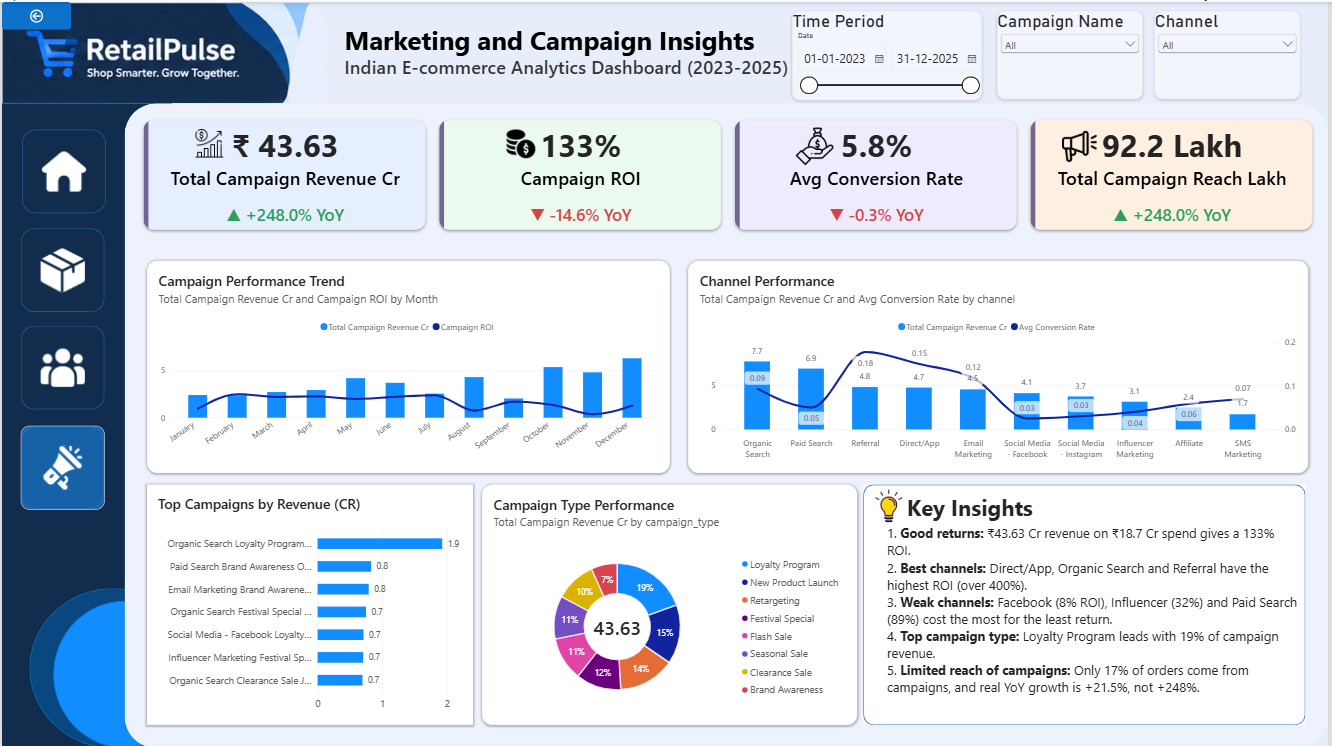

The dashboard page shown, as its layout file describes it:
{"tool":"powerbi","page":{"name":"Marketing Insight Dashboard","canvas":[1920,1080],"ordinal":3},"visuals":[{"type":"shape","box":[1246.4,698.5,640.1,348.3],"z":0,"group":"g2"},{"type":"shape","box":[0,146.6,246.1,933.8],"z":1000},{"type":"image","box":[1244.5,706,77.2,47.1],"z":1000,"group":"g2"},{"type":"image","box":[0,1.8,465.1,144.8],"z":2000},{"type":"textbox","box":[1310.4,709.8,299.4,47.1],"z":2000,"group":"g2"},{"type":"textbox","box":[1280.3,756.9,598.7,271.1],"z":3000,"group":"g2"},{"type":"shape","box":[39.8,848.7,242.5,231.6],"z":3000},{"type":"shape","box":[74.2,866.8,208.1,213.5],"z":4000},{"type":"shape","box":[176.6,146.6,1742.7,933.8],"z":5000},{"type":"textbox","box":[496.7,29.2,993.4,116.9],"z":6000},{"type":"textbox","box":[496.7,75.1,928.4,244.3],"z":7000},{"type":"cardVisual","fields":{"Data":["public campaigns.Total Campaign Revenue Cr","public campaigns.Campaign ROI","public campaigns.Avg Conversion Rate","public campaigns.Total Campaign Reach Lakh"]},"box":[199.1,164.7,1706.5,171.9],"z":8000,"group":"g1"},{"type":"lineStackedColumnComboChart","title":"Campaign Performance Trend","fields":{"Category":["public campaigns.campaign_end_date.Variation.Date Hierarchy.Month"],"Y":["public campaigns.Total Campaign Revenue Cr"],"Y2":["public campaigns.Campaign ROI"]},"box":[209.2,374.4,757.1,307.5],"z":14000},{"type":"lineStackedColumnComboChart","title":"Channel Performance","fields":{"Category":["public campaigns.channel"],"Y":["public campaigns.Total Campaign Revenue Cr"],"Y2":["public campaigns.Avg Conversion Rate"]},"box":[993.5,374.4,897.3,307.5],"z":16000},{"type":"barChart","title":"Top Campaigns by Revenue (CR)","fields":{"Category":["public campaigns.campaign_name"],"Y":["public campaigns.Total Campaign Revenue Cr"]},"box":[209.2,698,472.4,347.8],"z":17000},{"type":"donutChart","title":"Campaign Type Performance","fields":{"Category":["public campaigns.campaign_type"],"Y":["public campaigns.Total Campaign Revenue Cr"]},"box":[695.6,698,542.9,347.8],"z":18000},{"type":"slicer","title":"Time Period","fields":{"Values":["Date.Date"]},"box":[1143.3,13.6,275.2,129.8],"z":20000},{"type":"actionButton","box":[0,0,100,40],"z":21000},{"type":"slicer","title":"Campaign Name","fields":{"Values":["public campaigns.campaign_name"]},"box":[1439.8,13.6,211.2,127.9],"z":22000},{"type":"slicer","title":"Channel","fields":{"Values":["public campaigns.channel"]},"box":[1668.5,13.6,211.2,127.9],"z":23000},{"type":"actionButton","box":[29,184.6,121.2,121.2],"z":24000},{"type":"actionButton","box":[27.1,327.5,121.2,121.2],"z":25000},{"type":"actionButton","box":[27.1,468.7,121.2,121.2],"z":26000},{"type":"actionButton","box":[27.1,613.5,121.2,121.2],"z":27000},{"type":"image","box":[278.7,173.7,43.4,61.5],"z":27001,"group":"g1"},{"type":"image","box":[725.7,184.6,50.7,41.6],"z":27002,"group":"g1"},{"type":"image","box":[1149.2,180.9,54.3,56.1],"z":27003,"group":"g1"},{"type":"image","box":[1534.6,153.8,50.7,110.4],"z":27004,"group":"g1"},{"type":"group","id":"g1","title":"Group 1","box":[199.1,153.8,1706.5,182.8],"z":27005},{"type":"group","id":"g2","title":"Group 2","box":[1244.5,698.5,642,348.3],"z":27006}]}

Visuals, with their boxes in screenshot pixels (x1, y1, x2, y2), scaled from the page's 1920x1080 canvas onto the 1332x746 screenshot:
shape: [x1=865, y1=482, x2=1309, y2=723]
shape: [x1=0, y1=101, x2=171, y2=745]
image: [x1=863, y1=488, x2=917, y2=520]
image: [x1=0, y1=1, x2=323, y2=101]
textbox: [x1=909, y1=490, x2=1117, y2=523]
textbox: [x1=888, y1=523, x2=1304, y2=710]
shape: [x1=28, y1=586, x2=196, y2=745]
shape: [x1=51, y1=599, x2=196, y2=745]
shape: [x1=123, y1=101, x2=1331, y2=745]
textbox: [x1=345, y1=20, x2=1034, y2=101]
textbox: [x1=345, y1=52, x2=989, y2=221]
cardVisual - public campaigns.Total Campaign Revenue Cr x public campaigns.Campaign ROI: [x1=138, y1=114, x2=1322, y2=233]
"Campaign Performance Trend" lineStackedColumnComboChart: [x1=145, y1=259, x2=670, y2=471]
"Channel Performance" lineStackedColumnComboChart: [x1=689, y1=259, x2=1312, y2=471]
"Top Campaigns by Revenue (CR)" barChart: [x1=145, y1=482, x2=473, y2=722]
"Campaign Type Performance" donutChart: [x1=483, y1=482, x2=859, y2=722]
"Time Period" slicer: [x1=793, y1=9, x2=984, y2=99]
actionButton: [x1=0, y1=0, x2=69, y2=28]
"Campaign Name" slicer: [x1=999, y1=9, x2=1145, y2=98]
"Channel" slicer: [x1=1158, y1=9, x2=1304, y2=98]
actionButton: [x1=20, y1=128, x2=104, y2=211]
actionButton: [x1=19, y1=226, x2=103, y2=310]
actionButton: [x1=19, y1=324, x2=103, y2=407]
actionButton: [x1=19, y1=424, x2=103, y2=507]
image: [x1=193, y1=120, x2=223, y2=162]
image: [x1=503, y1=128, x2=539, y2=156]
image: [x1=797, y1=125, x2=835, y2=164]
image: [x1=1065, y1=106, x2=1100, y2=182]
"Group 1" group: [x1=138, y1=106, x2=1322, y2=233]
"Group 2" group: [x1=863, y1=482, x2=1309, y2=723]
